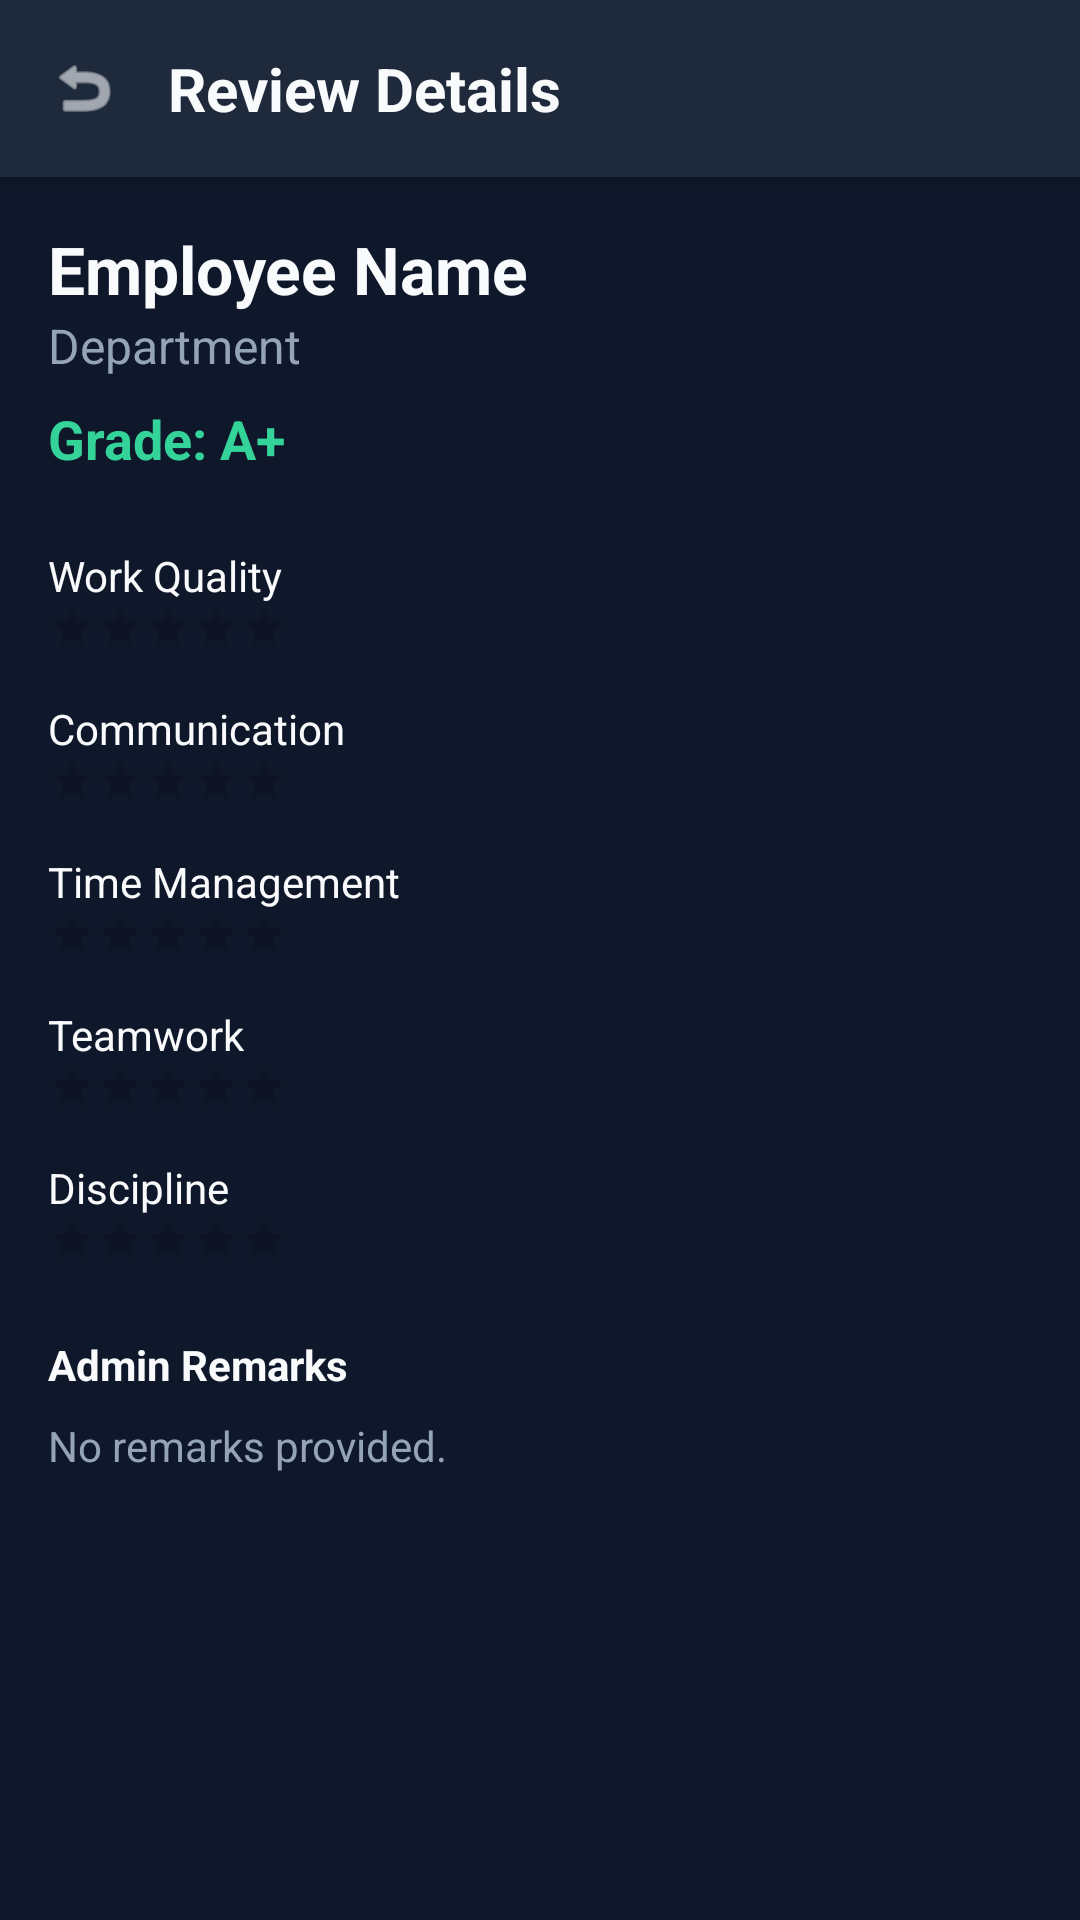

Point at icon controls on the screen. Image size 1080 × 1920, points as (x,y).
revert: (85,88)
